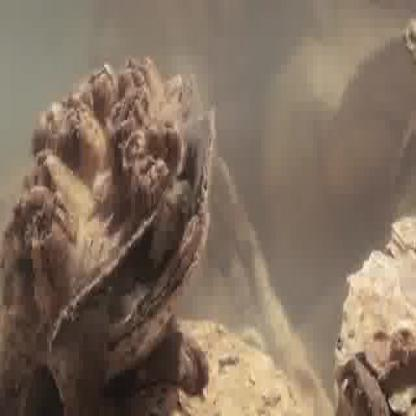Oyster- Indeterminate: (405, 17, 416, 56)
Oyster-Closed: (129, 318, 310, 416), (335, 250, 416, 414), (120, 329, 208, 393), (391, 215, 416, 253)
Oyster-Open: (1, 52, 214, 374), (336, 357, 392, 416)
